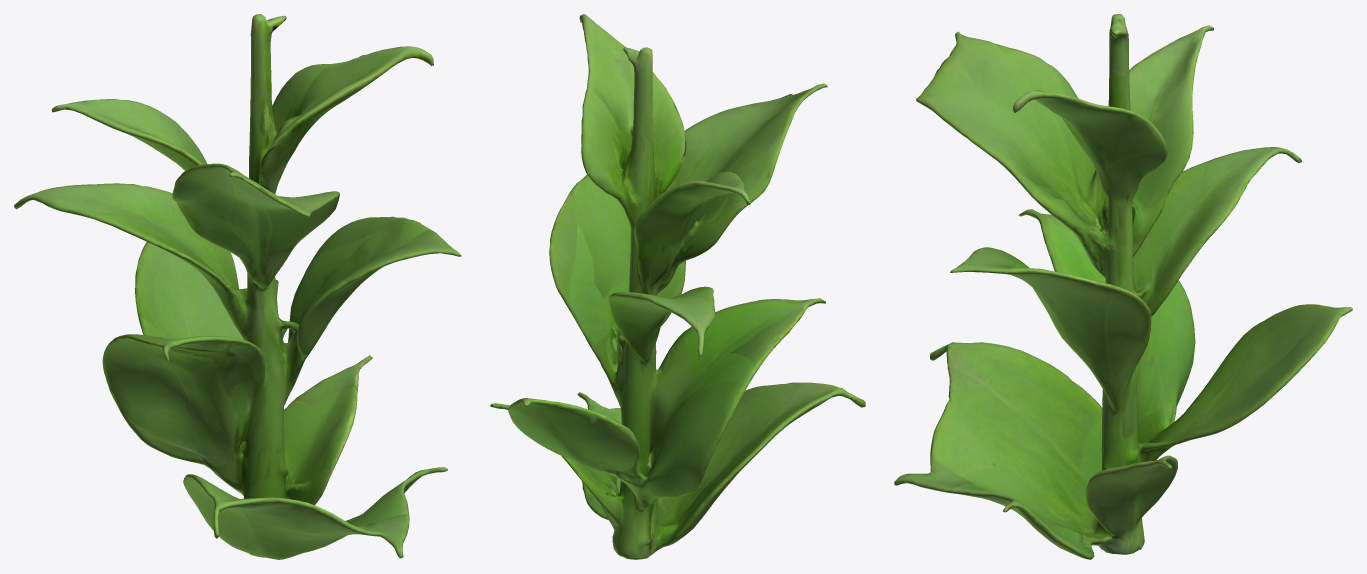
File: crop-plant.glb
The picture shows the model from 3 angles, left to right: view 1: azimuth 30°, elevation 25°; view 2: azimuth 150°, elevation 25°; view 3: azimuth 270°, elevation 25°; orthographic projection. The views are drawn at different scales.
Parts seen in each view (by area): view 1: Mesh1.0; view 2: Mesh1.0; view 3: Mesh1.0.
Part boxes in pixels (x1=…): Mesh1.0: x1=14, y1=14, x2=461, y2=559; Mesh1.0: x1=490, y1=14, x2=865, y2=559; Mesh1.0: x1=894, y1=14, x2=1352, y2=559.
Size of the model in its own units: 1.17 by 2.01 by 1.58.
Materials: 1 (1 with a texture image).
